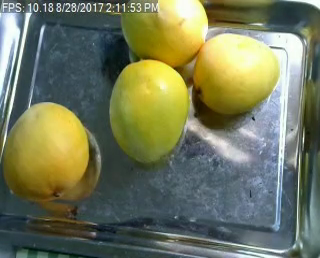Mango: (0, 103, 88, 202), (108, 60, 188, 161), (195, 33, 281, 112), (119, 0, 209, 65)
